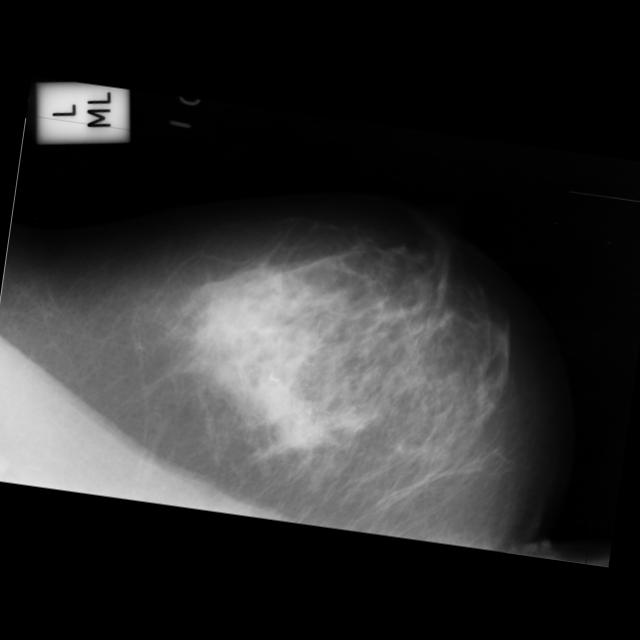CALC: (0, 66, 409, 358)
